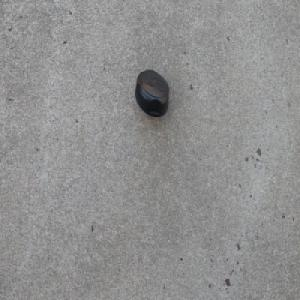FuelCap: (134, 69, 170, 120)
